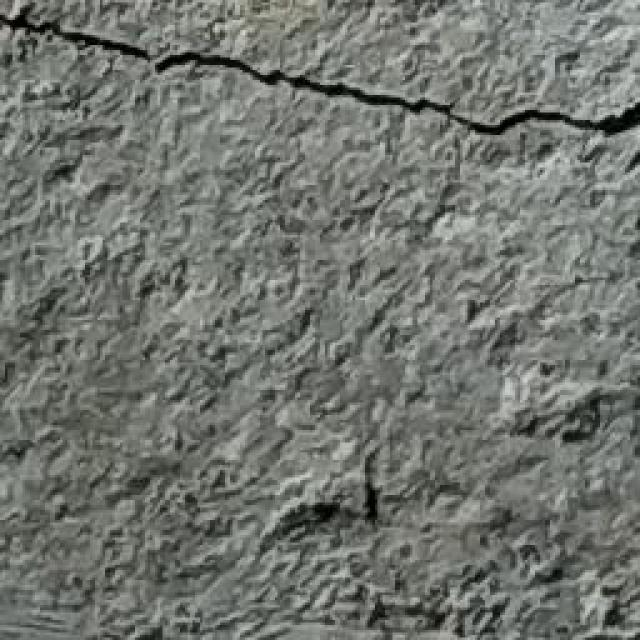Rippled: (0, 163, 640, 640)
Transverse: (0, 2, 636, 154)
